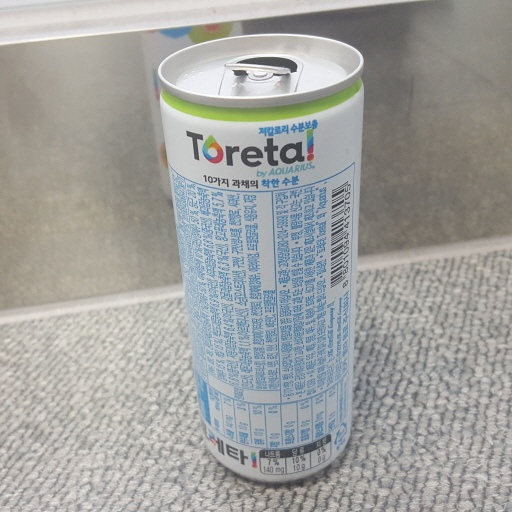Metal_0: (155, 35, 366, 486)
